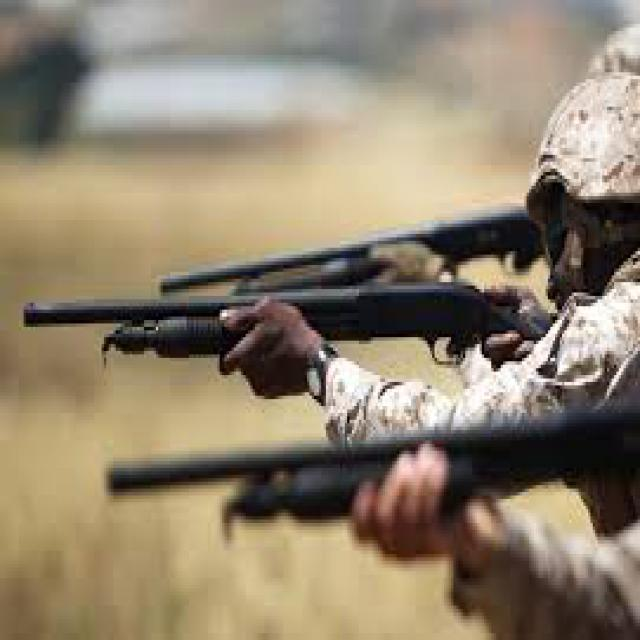long weapon: (102, 391, 640, 549), (21, 275, 560, 395), (153, 176, 567, 304)
